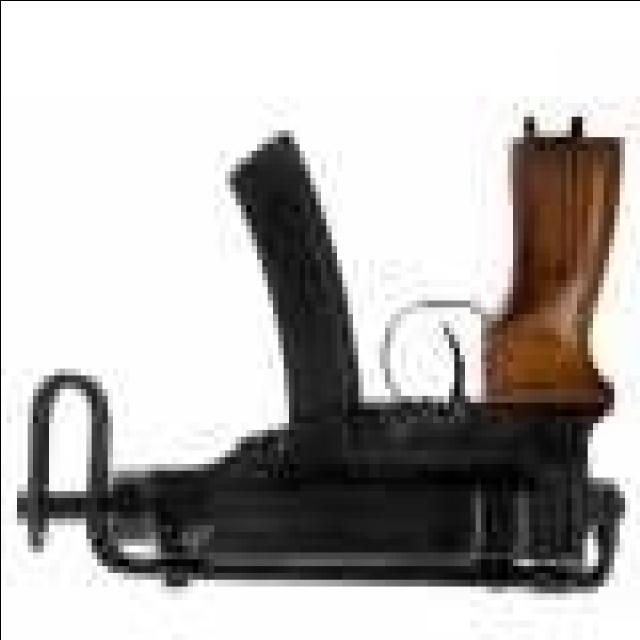heavyweapon: (7, 124, 640, 608)
